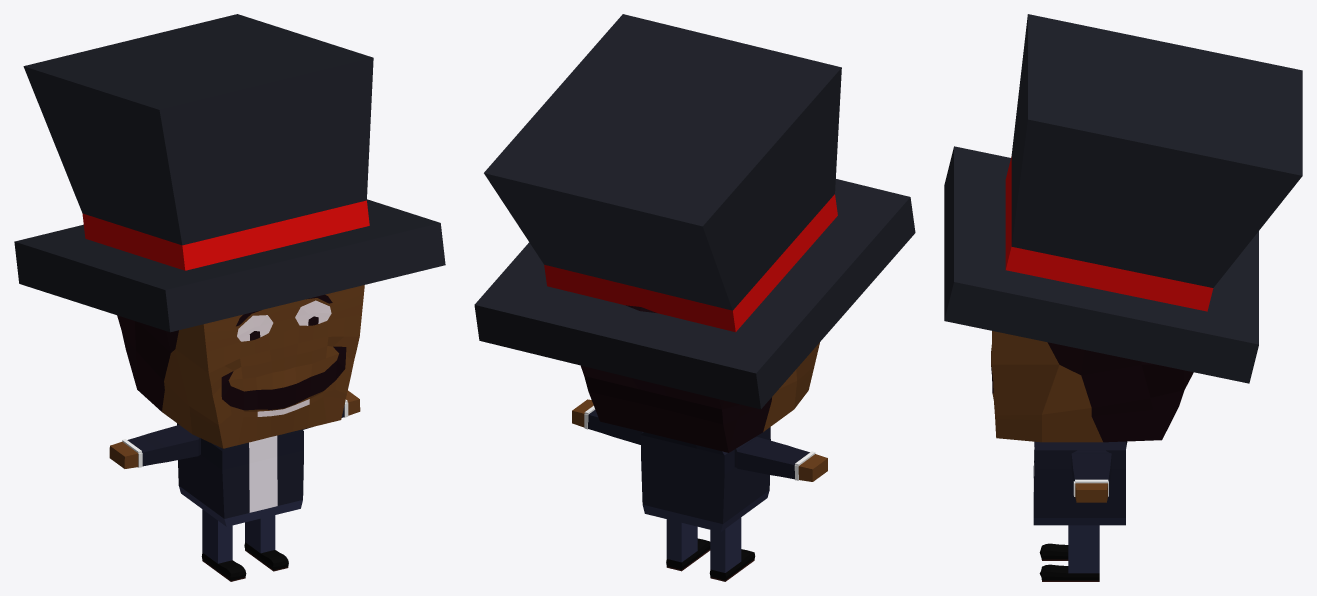
File: Mago.fbx
3 views of the same model, side by side, from view 1: azimuth 30°, elevation 25°; view 2: azimuth 150°, elevation 25°; view 3: azimuth 270°, elevation 25° (orthographic). The views are drawn at different scales.
Parts seen in each view (by area): view 1: Character; view 2: Character; view 3: Character.
Part boxes in pixels (x1,y1,x2,y2): Character: (14, 14, 445, 581); Character: (474, 14, 915, 581); Character: (944, 14, 1302, 581).
Size of the model in its own units: 323 by 555 by 360.
